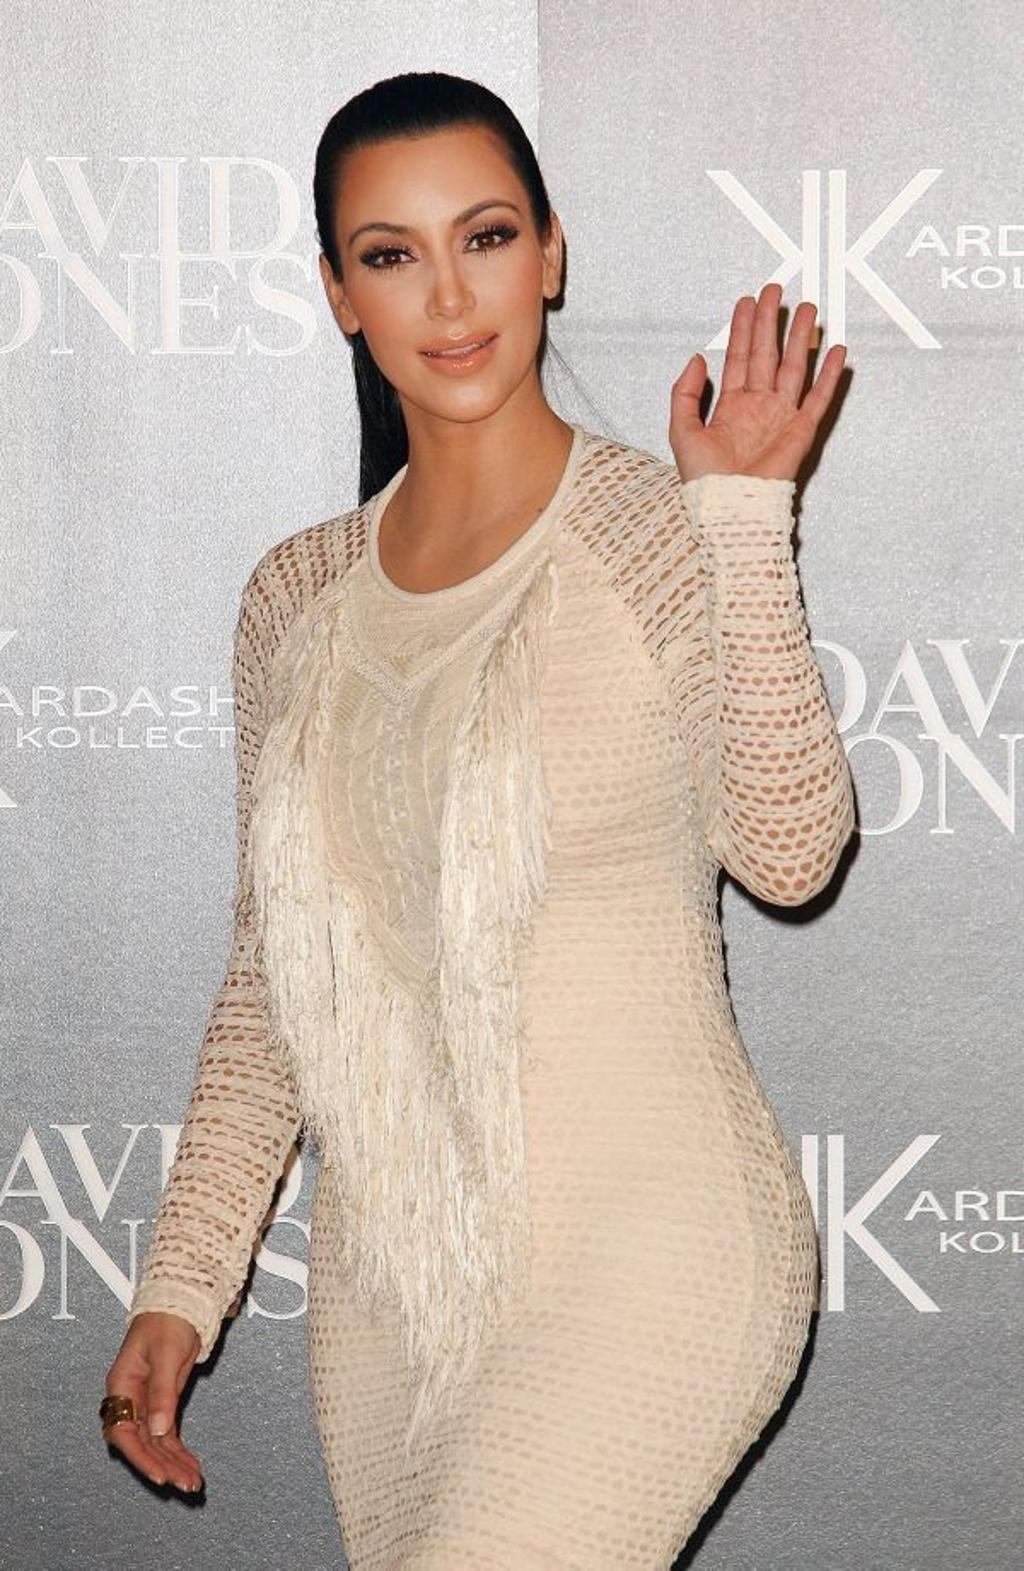face: (334, 135, 542, 423)
